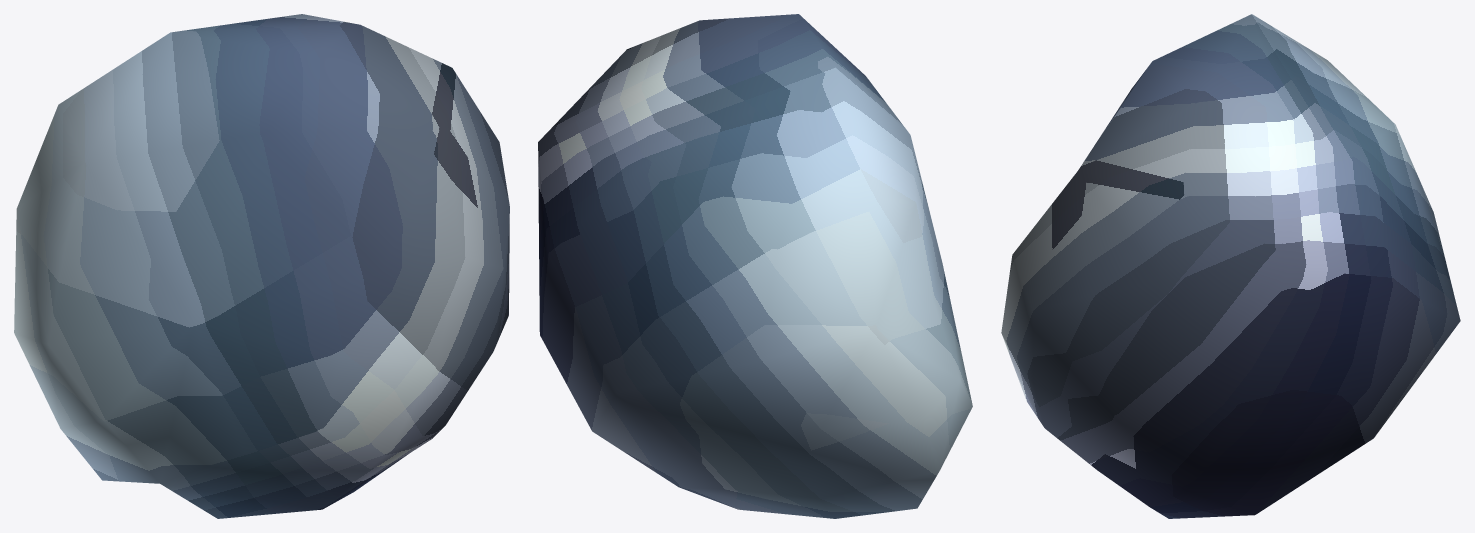
The model's file is slime_chip.glb.
The picture shows the model from 3 angles, left to right: view 1: azimuth 30°, elevation 25°; view 2: azimuth 150°, elevation 25°; view 3: azimuth 270°, elevation 25°; orthographic projection. The views are drawn at different scales.
Visible parts, largest first — view 1: model_slime_chip; view 2: model_slime_chip; view 3: model_slime_chip.
Boxes of the visible parts, x1=… form: model_slime_chip: x1=14, y1=14, x2=509, y2=518; model_slime_chip: x1=538, y1=14, x2=972, y2=518; model_slime_chip: x1=1001, y1=14, x2=1460, y2=518.
Size of the model in its own units: 0.3298 by 0.3527 by 0.3243.
1 material, 1 textured.
